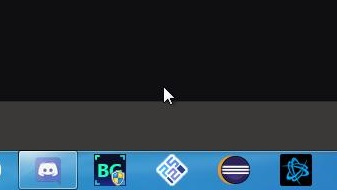cursor: (159, 84, 179, 107)
